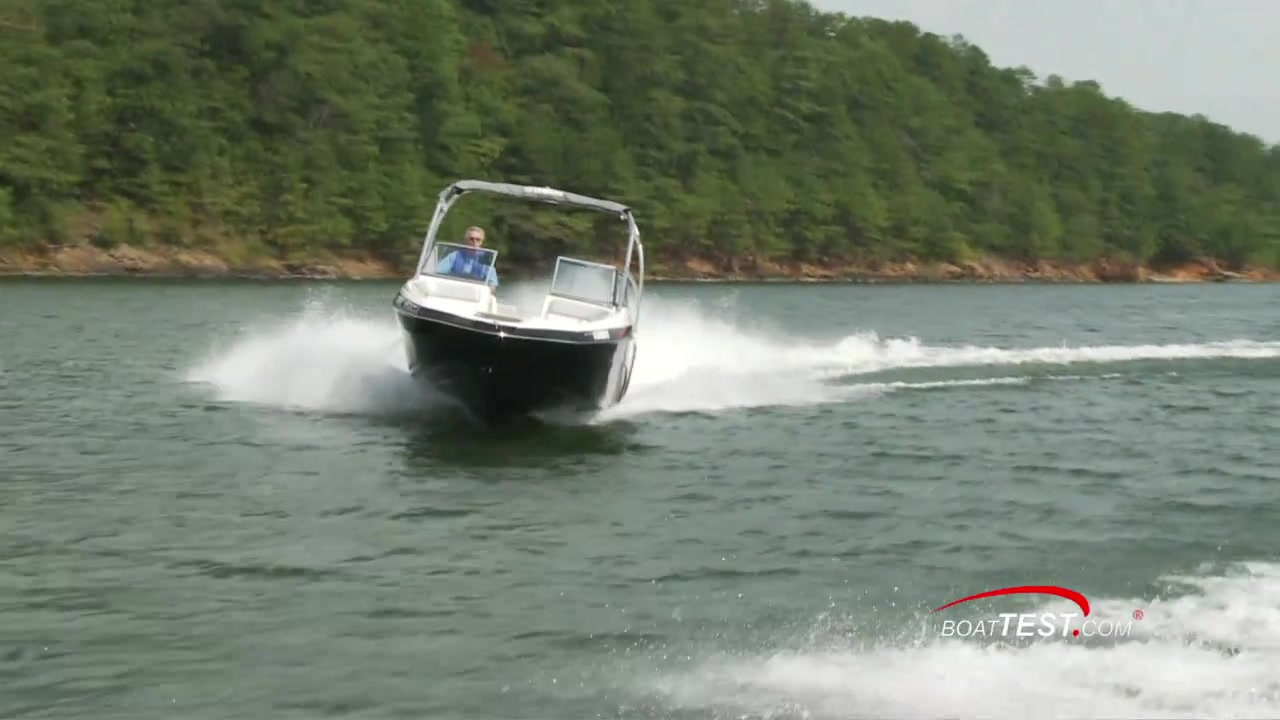boat: (394, 167, 651, 426)
